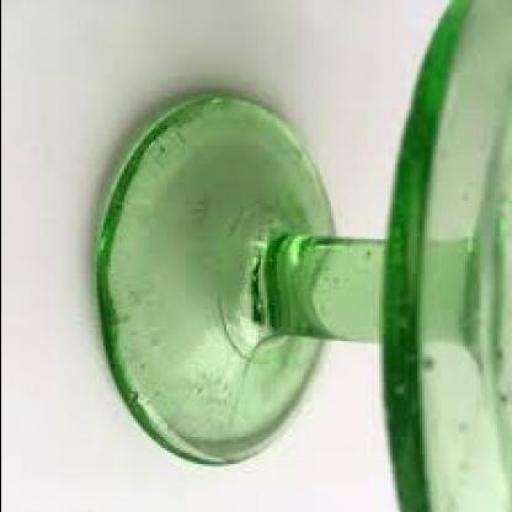glass: (95, 0, 511, 512)
